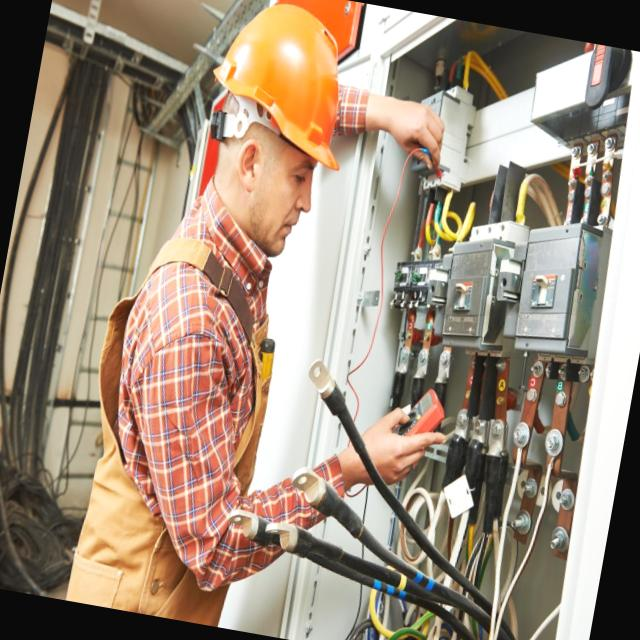helmet: (195, 0, 374, 189)
no-goggles: (212, 137, 349, 221)
no-vest: (51, 238, 296, 630)
